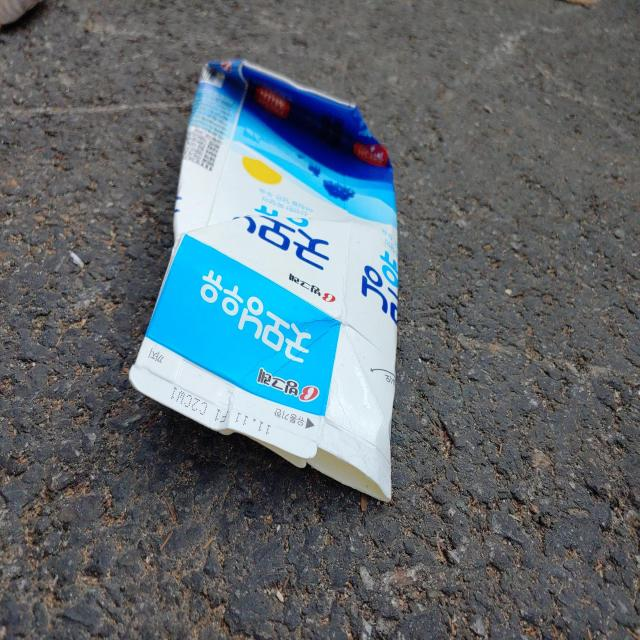paperpack: (129, 59, 399, 501)
